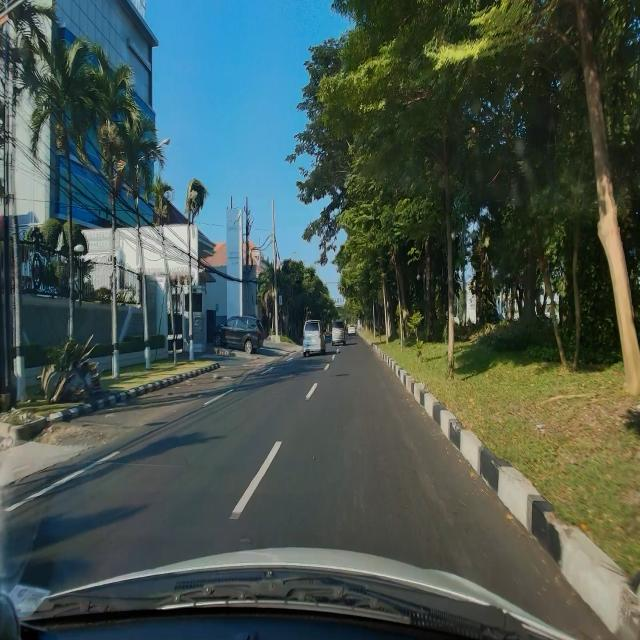car: (301, 319, 327, 358)
